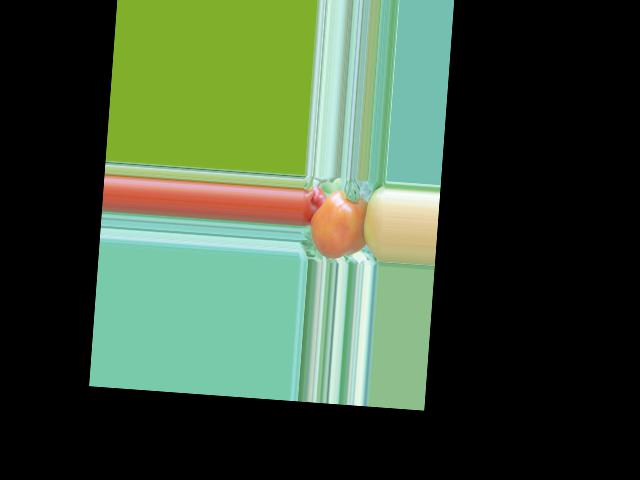tomato: (308, 188, 367, 260)
